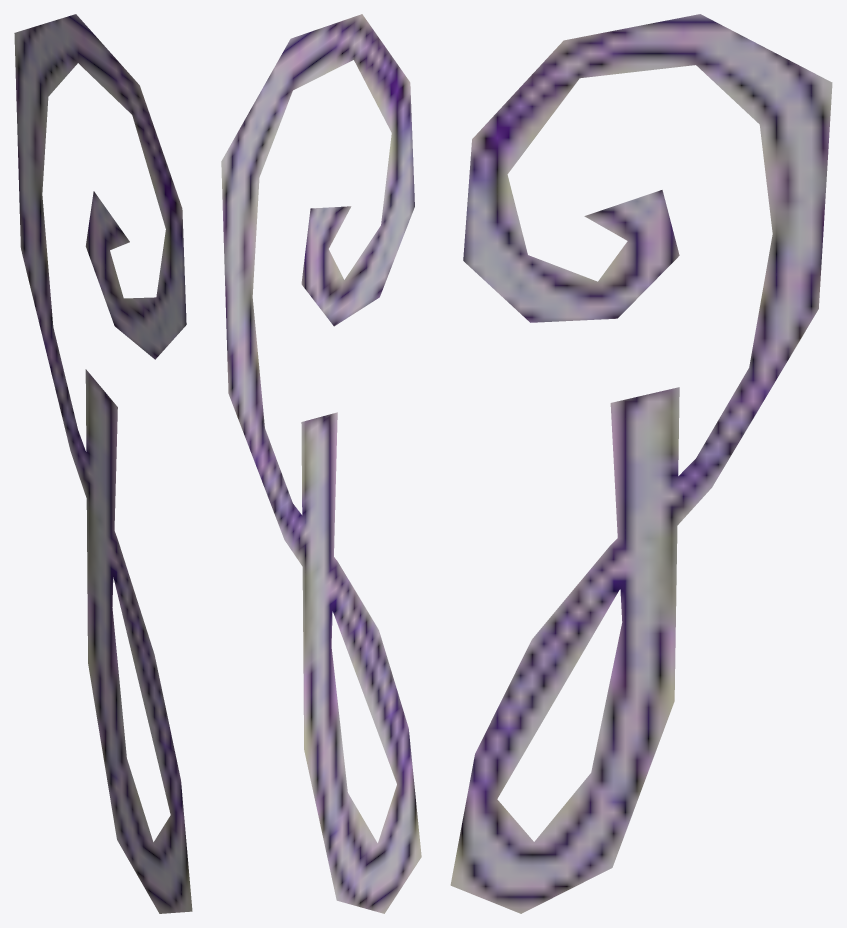
3 renders of one model, left to right at view 1: azimuth 30°, elevation 25°; view 2: azimuth 150°, elevation 25°; view 3: azimuth 270°, elevation 25°, orthographic. The views are drawn at different scales.
Visible parts, largest first — view 1: Picsart_22-01-21_15-37-57-171.002; view 2: Picsart_22-01-21_15-37-57-171.002; view 3: Picsart_22-01-21_15-37-57-171.002.
Part boxes in pixels (bbox=[...]): Picsart_22-01-21_15-37-57-171.002: bbox=[14, 14, 192, 913]; Picsart_22-01-21_15-37-57-171.002: bbox=[221, 14, 421, 913]; Picsart_22-01-21_15-37-57-171.002: bbox=[450, 14, 832, 913].
Size of the model in its own units: 2.51e-06 by 43.47 by 16.72.
Materials: 1 (1 with a texture image).
